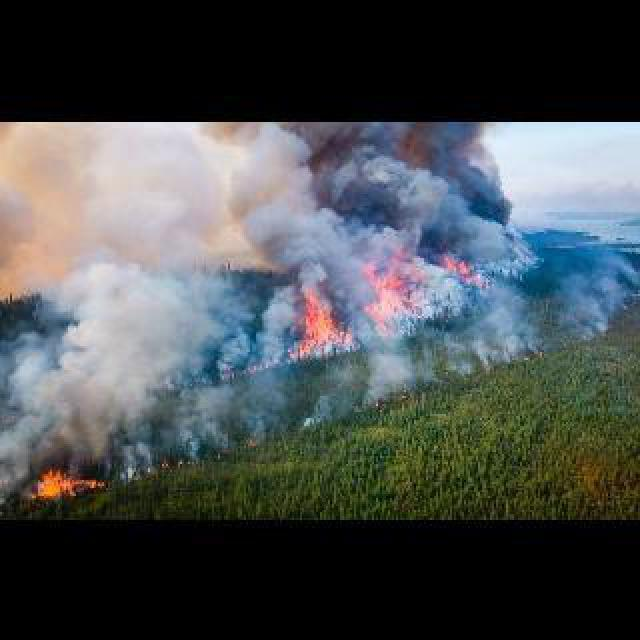fire: (362, 231, 425, 341), (288, 277, 358, 359), (26, 457, 107, 505), (435, 243, 494, 295)
smoke: (0, 134, 243, 452), (242, 122, 510, 248), (245, 278, 298, 374)
